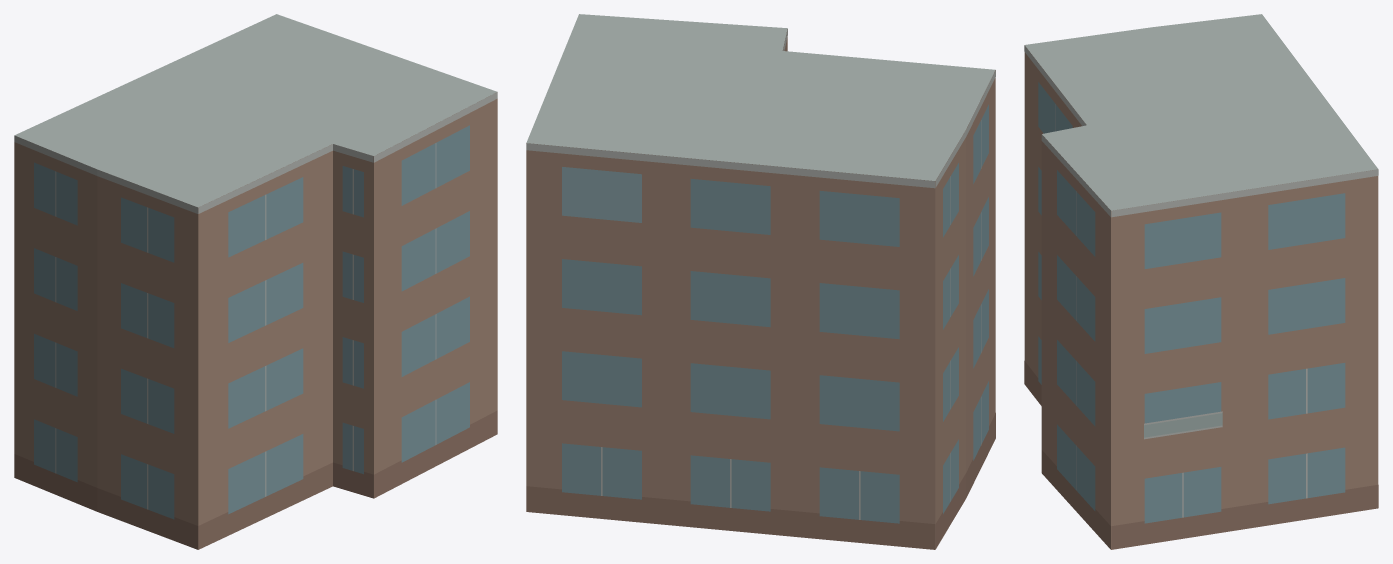
File: survey-upis-32596241.glb
The picture shows the model from 3 angles, left to right: view 1: azimuth 30°, elevation 25°; view 2: azimuth 150°, elevation 25°; view 3: azimuth 270°, elevation 25°; orthographic projection. The views are drawn at different scales.
Parts seen in each view (by area): view 1: survey-upis-32596241.tmp; view 2: survey-upis-32596241.tmp; view 3: survey-upis-32596241.tmp.
Boxes of the visible parts, left/top/right/bottom form: survey-upis-32596241.tmp: left=14, top=14, right=497, bottom=549; survey-upis-32596241.tmp: left=526, top=14, right=995, bottom=549; survey-upis-32596241.tmp: left=1024, top=14, right=1378, bottom=549.
Size of the model in its own units: 15.56 by 12.5 by 11.84.
